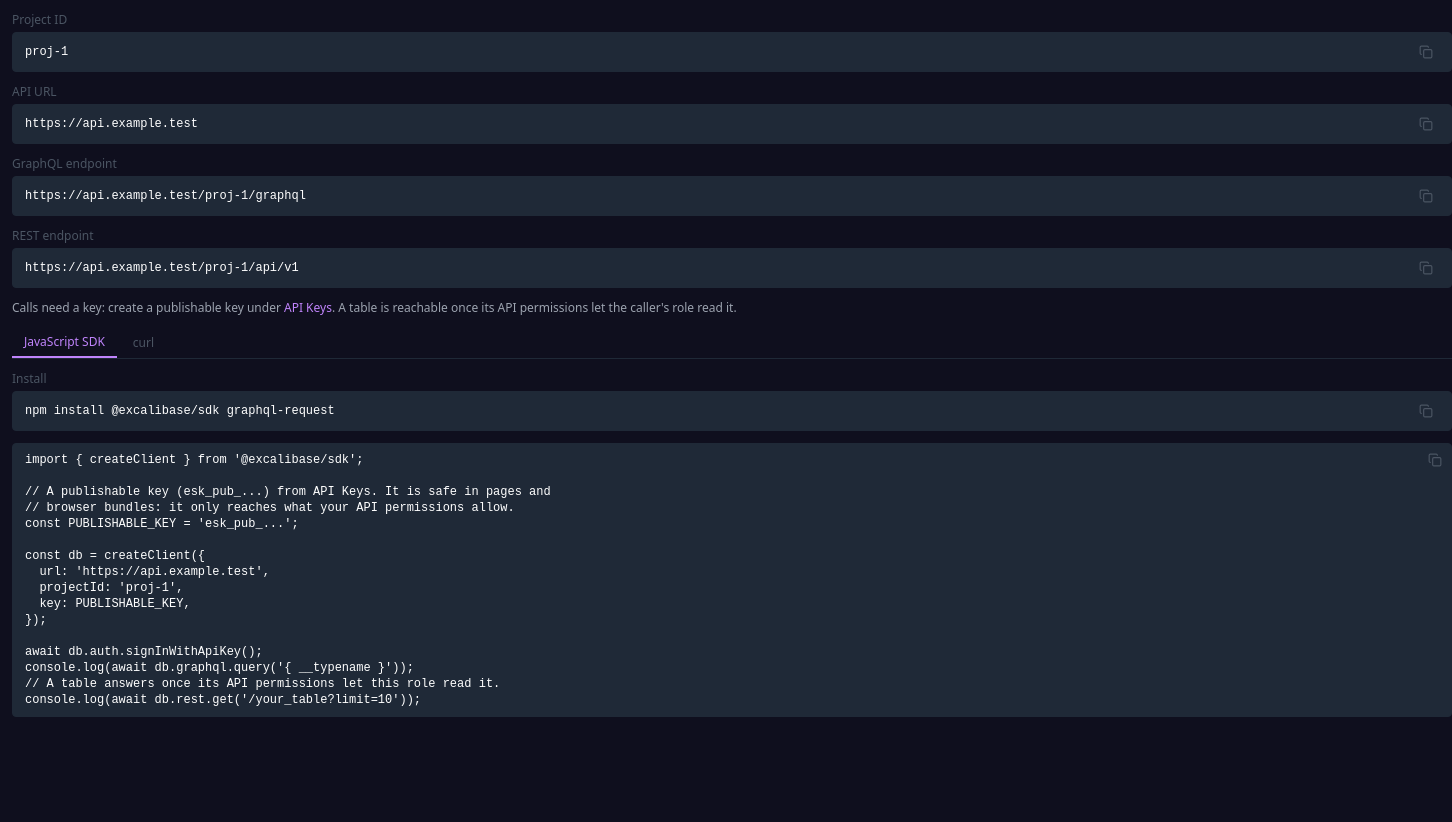
Test: ConnectSnippets › switches to the curl tab
This screenshot has width=1452, height=822.
Step 1. Click the tab "curl" → (144, 343), box [121, 328, 166, 358]
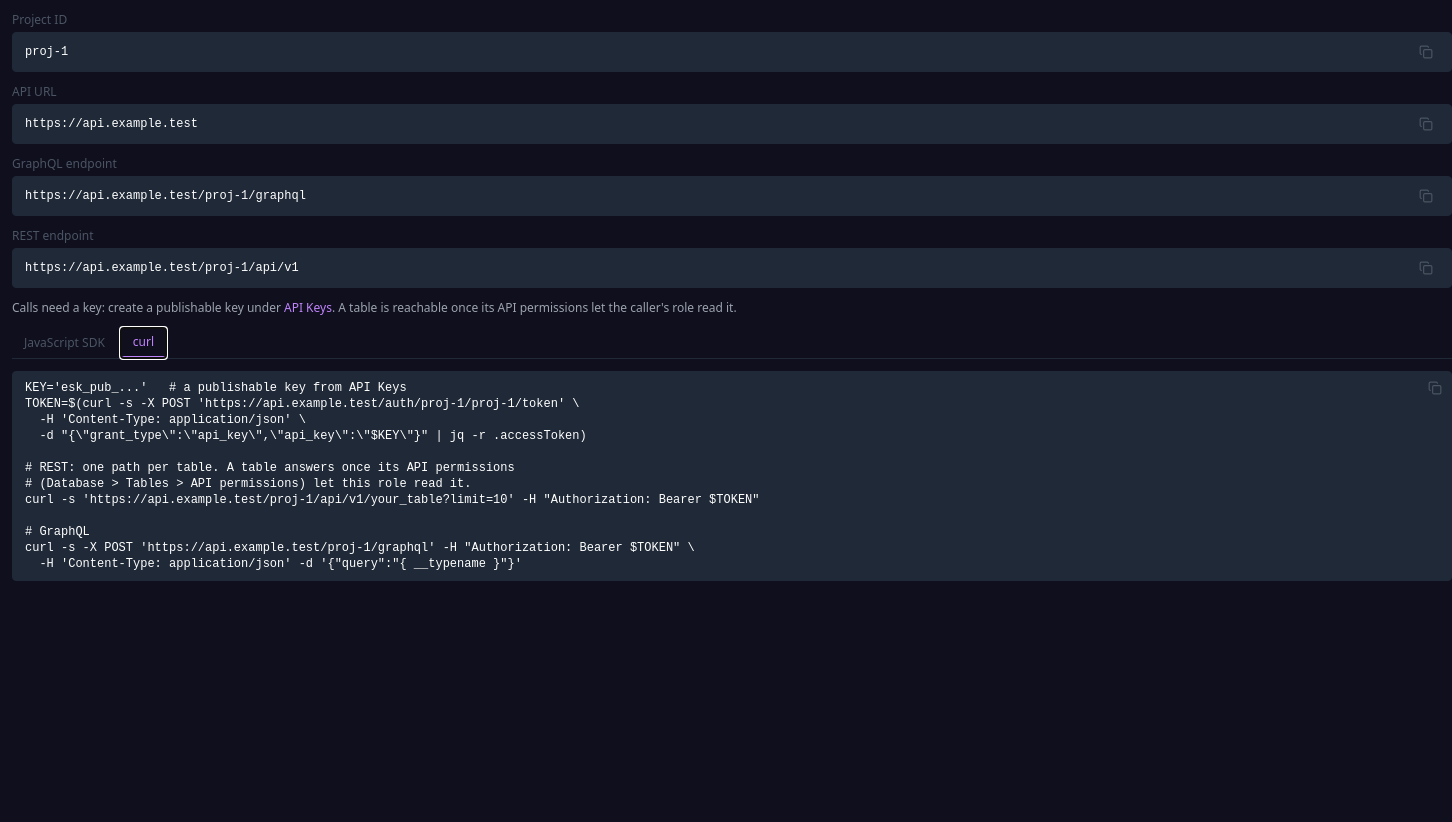
Result: the text with test id "connect-code" shows "grant_type" at [25, 381, 760, 571]
